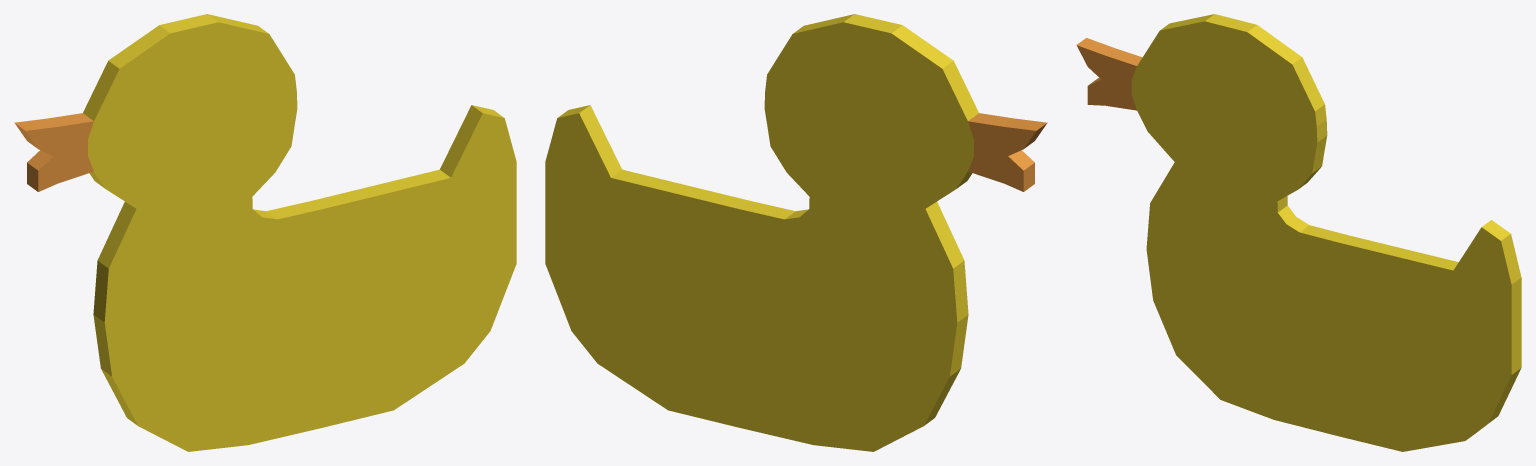
File: duckSihlouette.fbx
3 views of the same model, side by side, from view 1: azimuth 30°, elevation 25°; view 2: azimuth 150°, elevation 25°; view 3: azimuth 330°, elevation 25° (orthographic). The views are drawn at different scales.
Visible parts, largest first — view 1: Duck Silhouette; view 2: Duck Silhouette; view 3: Duck Silhouette.
Part boxes in pixels (<box>): Duck Silhouette: <box>14,14,516,451</box>; Duck Silhouette: <box>545,14,1047,451</box>; Duck Silhouette: <box>1076,14,1521,451</box>.
Bounding box in the file's own units: 30.63 × 1.22 × 25.72.
